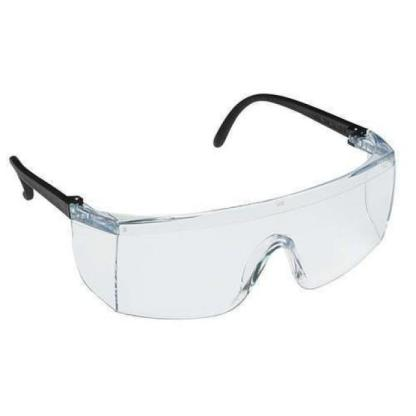oculos: (8, 86, 413, 332)
